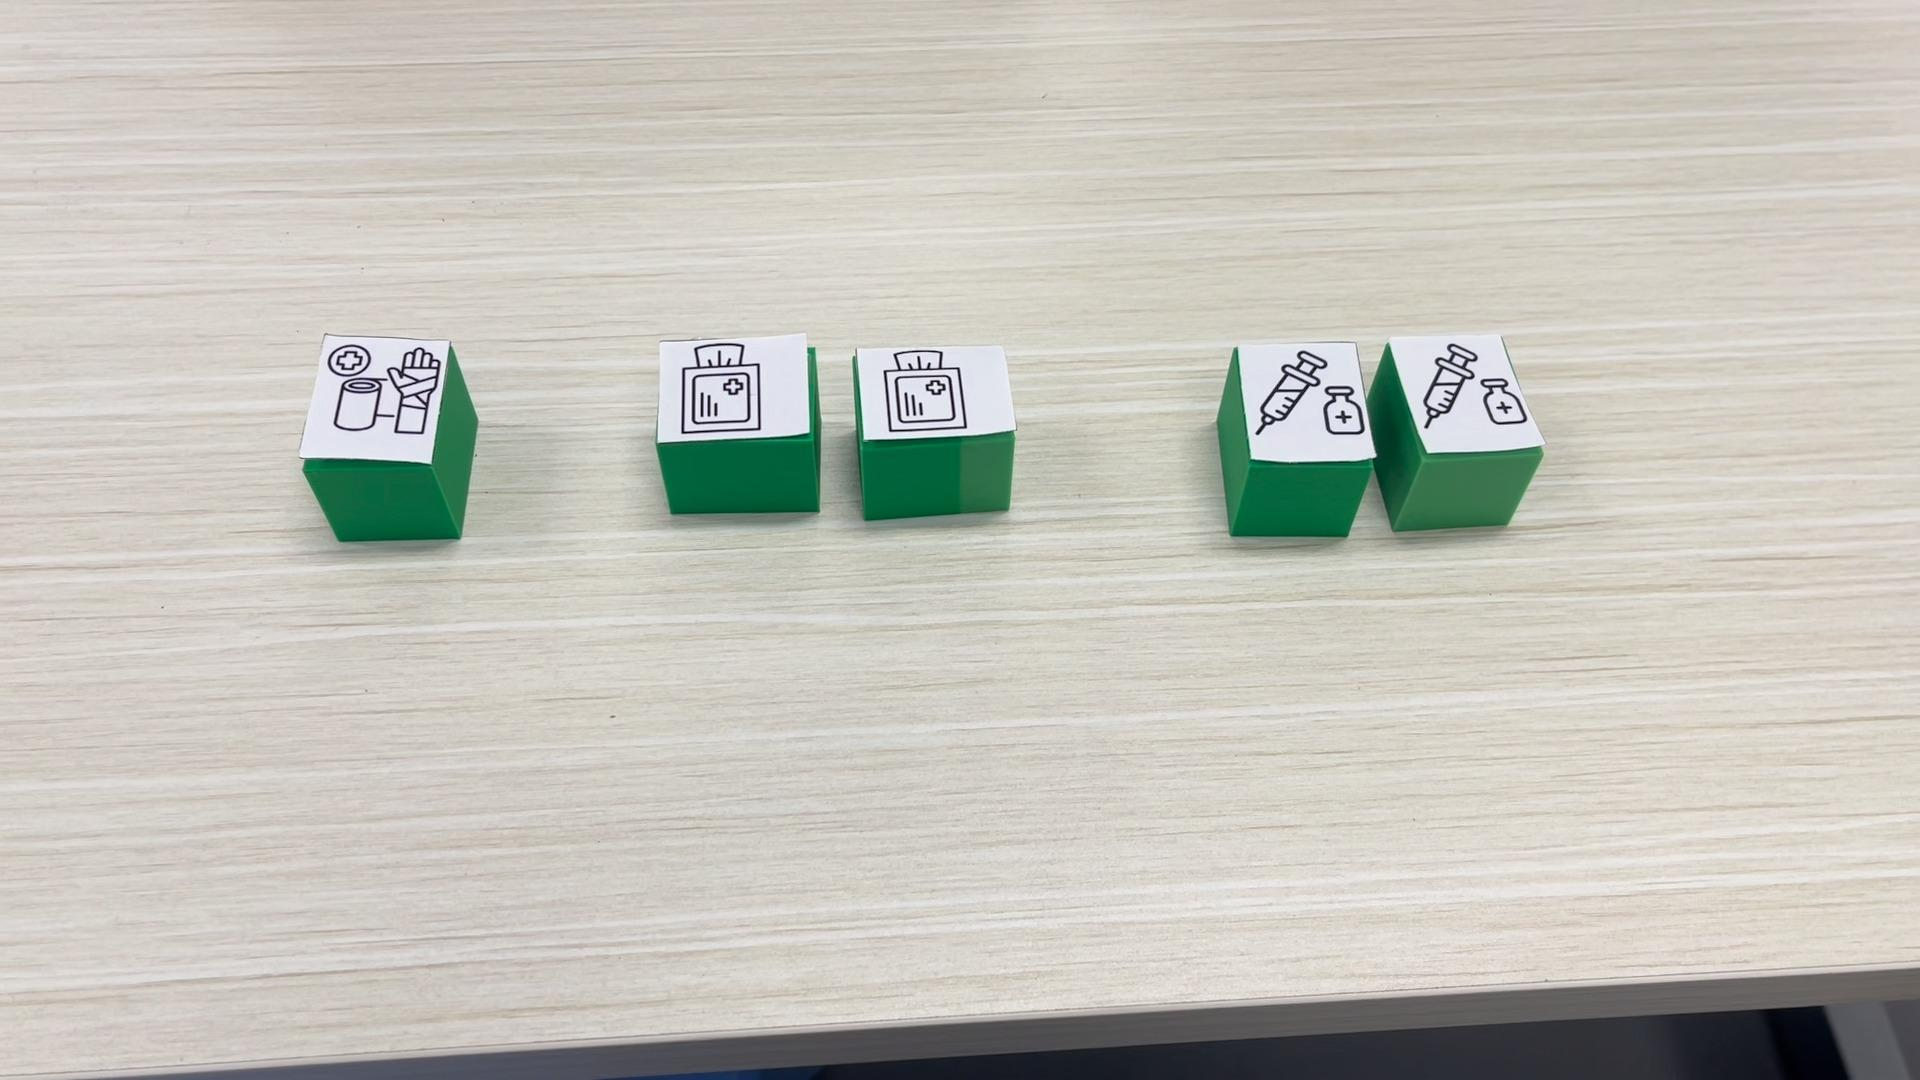Bandages: (297, 334, 477, 543)
Gauze: (657, 331, 819, 516), (853, 340, 1019, 520)
antiseptic cream: (1377, 330, 1547, 530), (1215, 342, 1377, 539)
